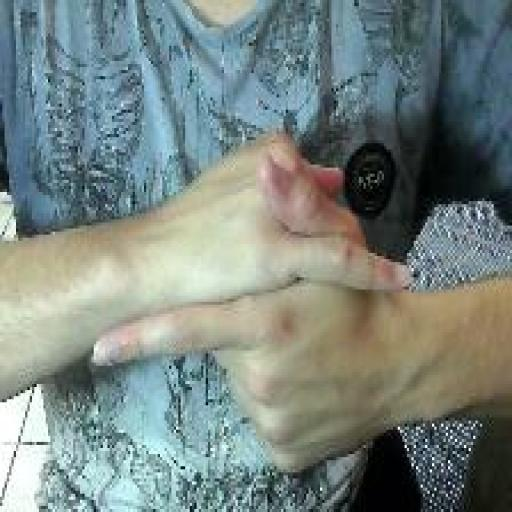U -hare-: (86, 123, 419, 480)
